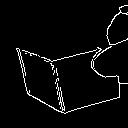cube: (8, 38, 126, 118)
